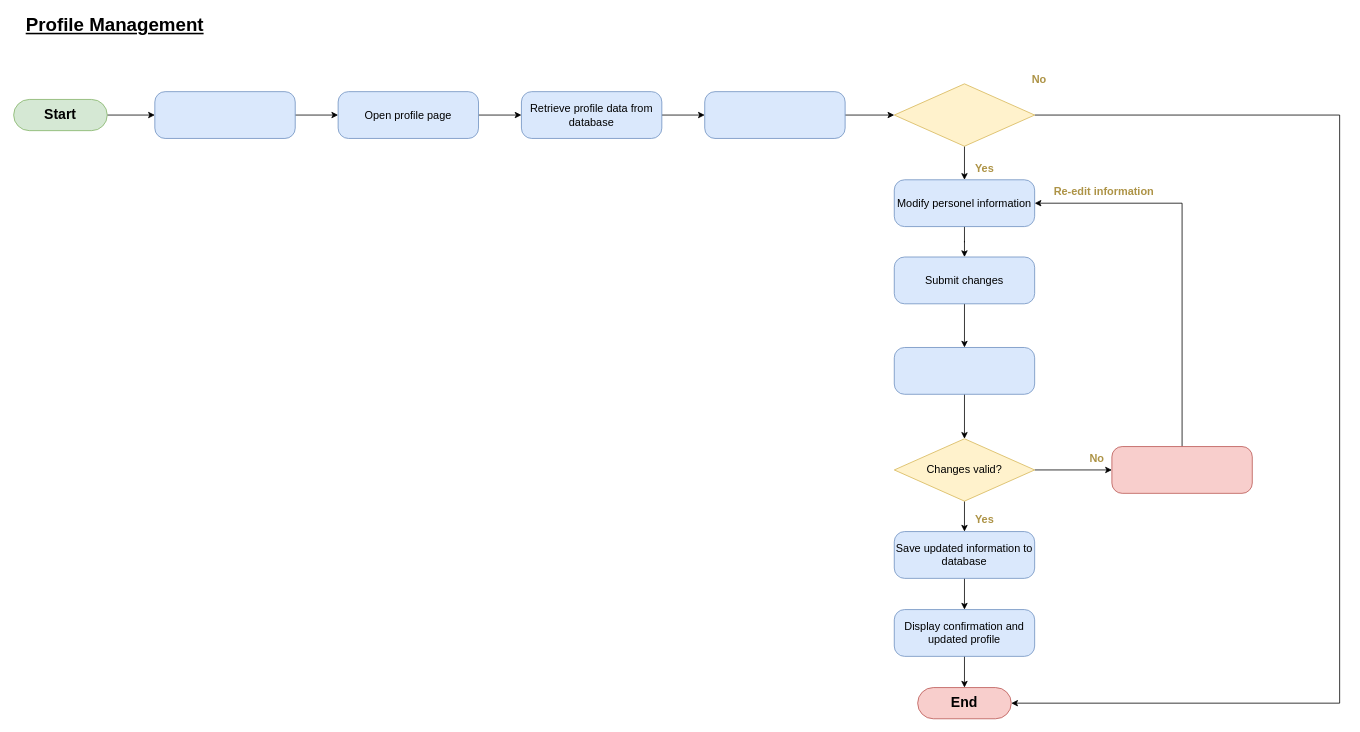
The diagram is 1360 pixels wide and 732 high, and some of its shapes have lost their labels. Each missing label, with the box of its shape:
Display error message: (1111, 446, 1252, 493)
Display profile information: (704, 91, 845, 138)
Edit information?: (893, 83, 1035, 146)
Login to the system: (154, 91, 295, 138)
Validate changes: (893, 347, 1035, 394)
